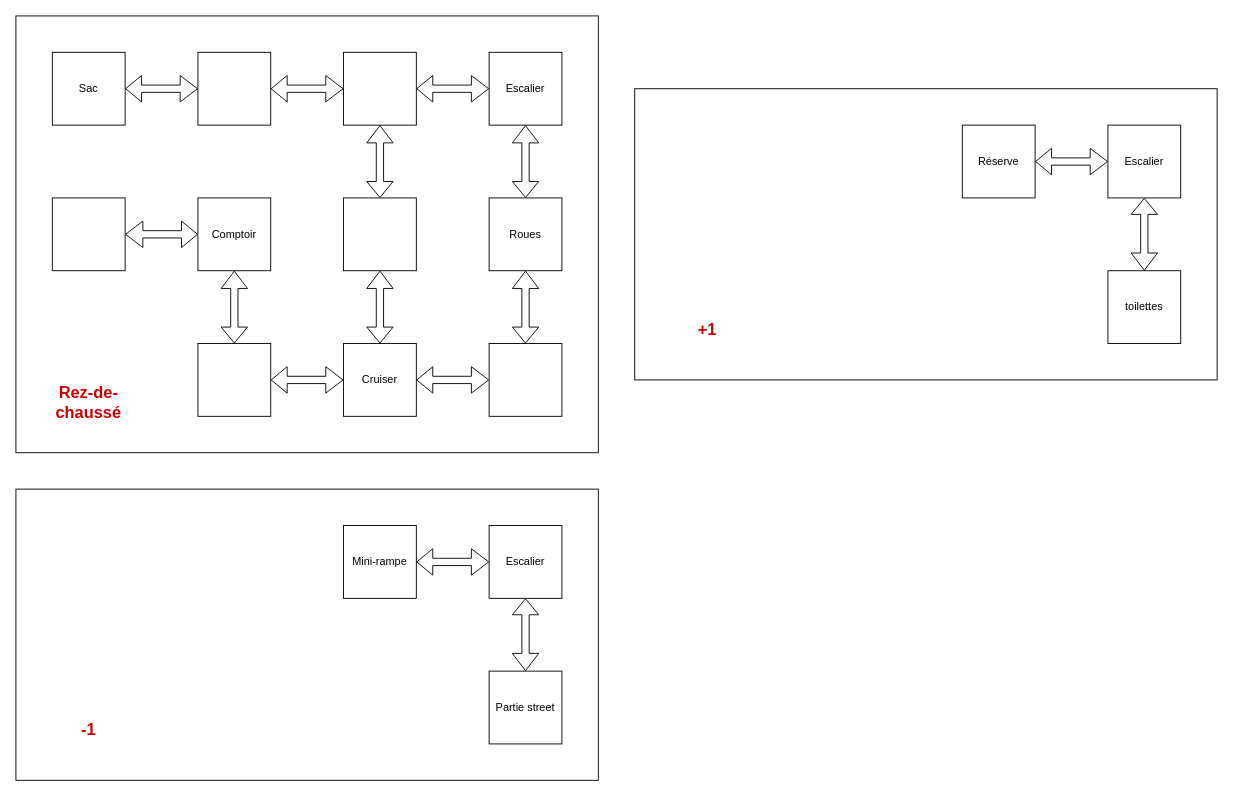
Some shapes in this 1233 by 796 pixel diagram are drawn without their labels. The centre of each missing label's shape, as x and y in pixels:
"Caisse" goes at [234,379].
"Chaussures" goes at [234,88].
"Hoodie" goes at [379,234].
"Miroir" goes at [379,88].
"Planche" goes at [88,234].
"Roulements" goes at [525,379].
